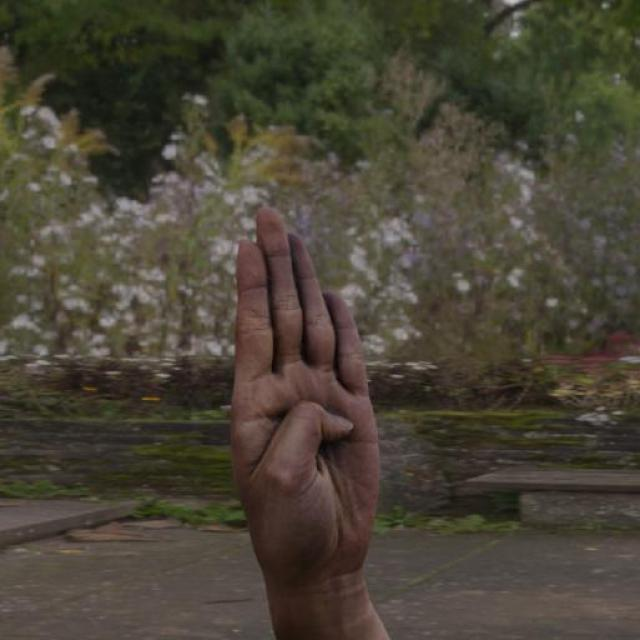B: (223, 202, 388, 592)
